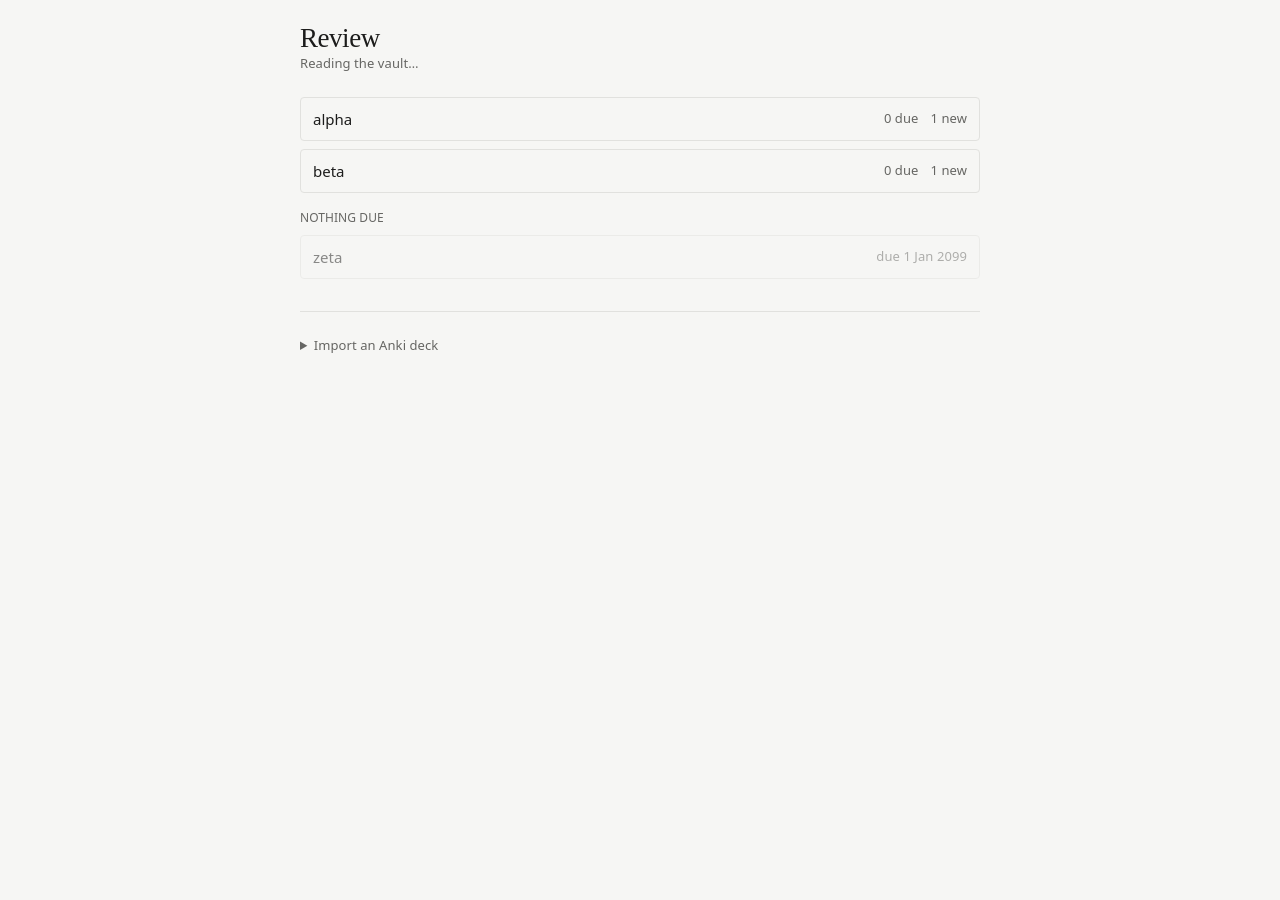
a sitting whose deck note read failed for good can try again (#1163) › #1163 B1 after Try again by key in the review pane the pane's Enter shows the answer of the card that comes up
Expected: the button "alpha 0 due 1 new" is shown, x1=300 y1=97 x2=980 y2=141
Press j in the element labelled "Review"
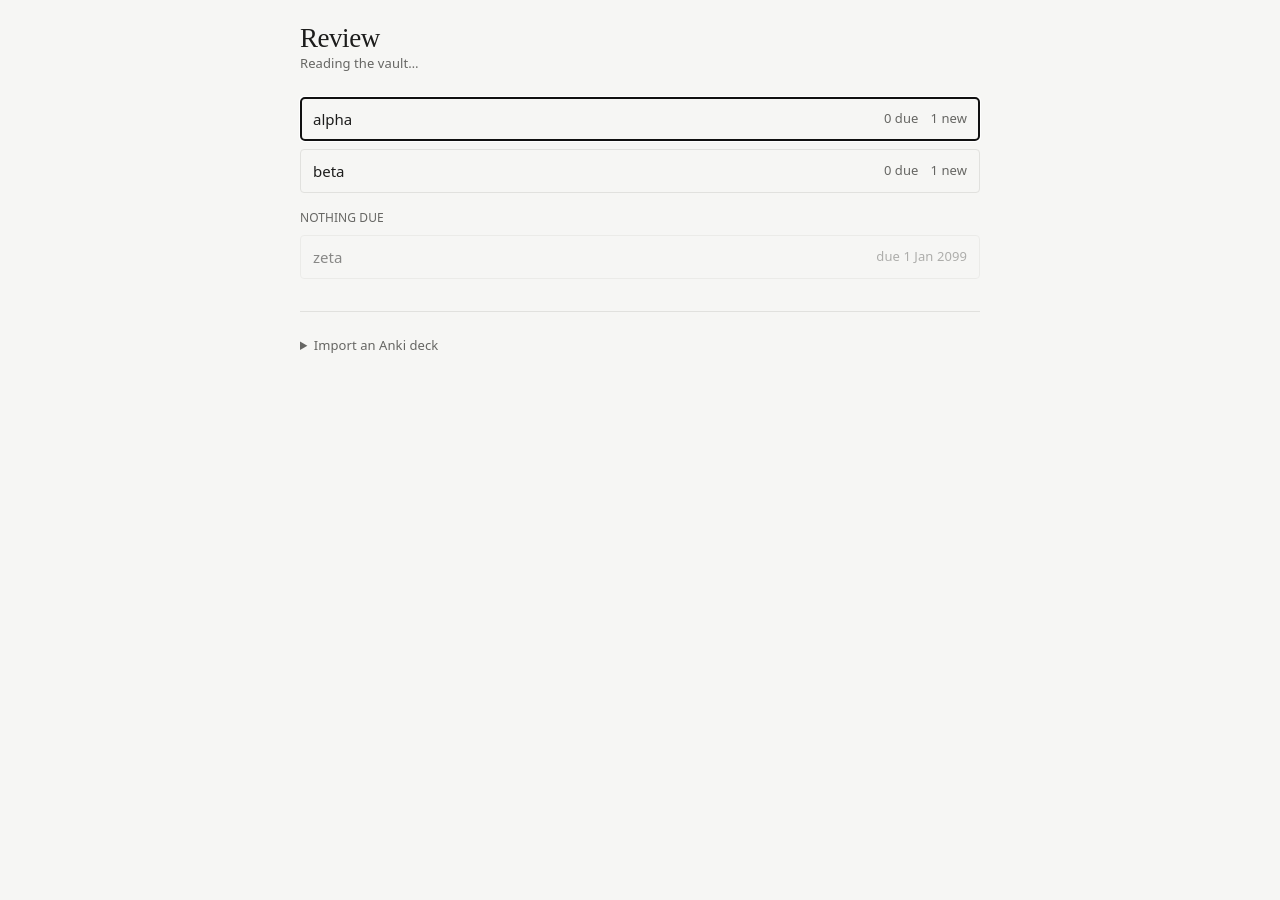
Press j in the element labelled "Review"
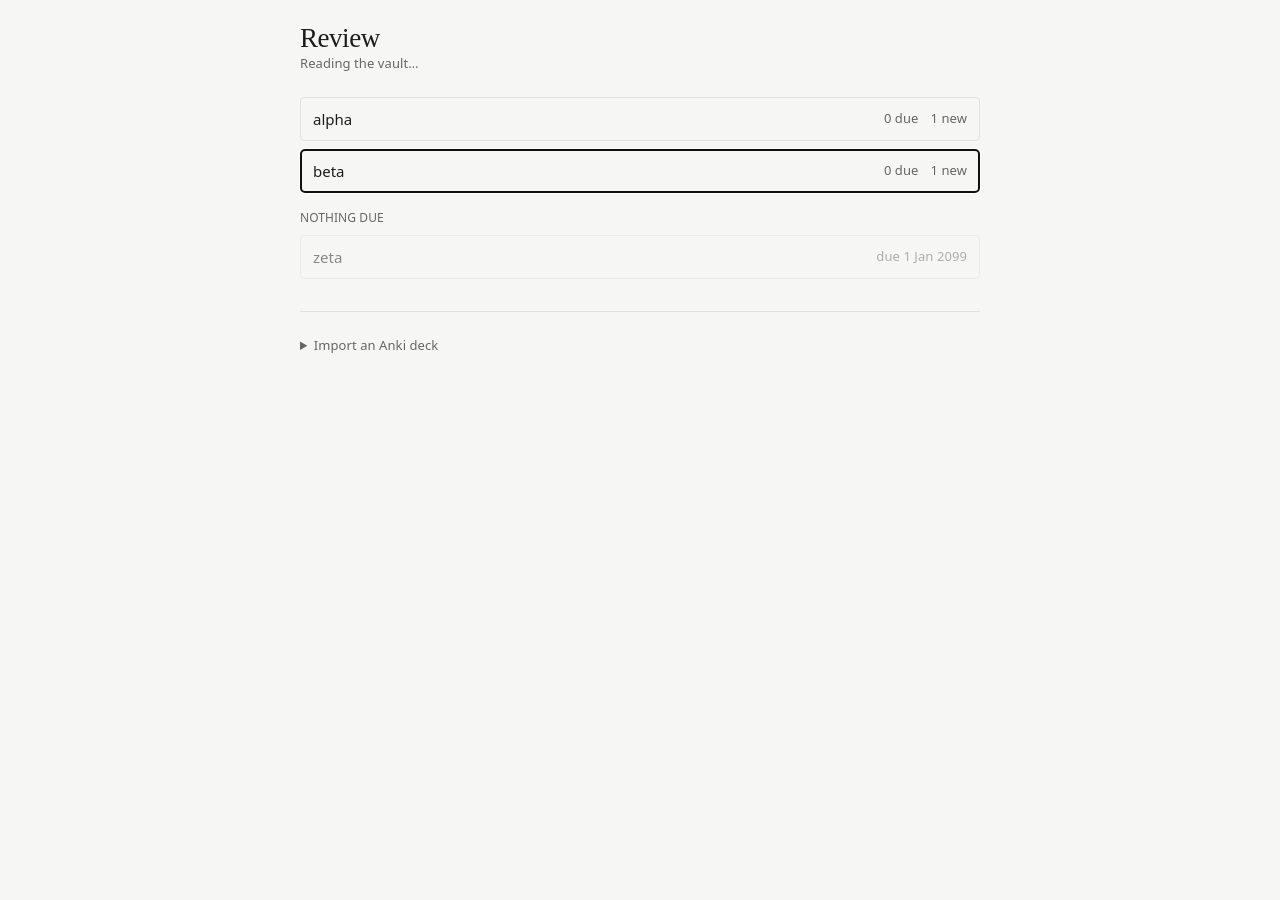
Press l in the element labelled "Review"
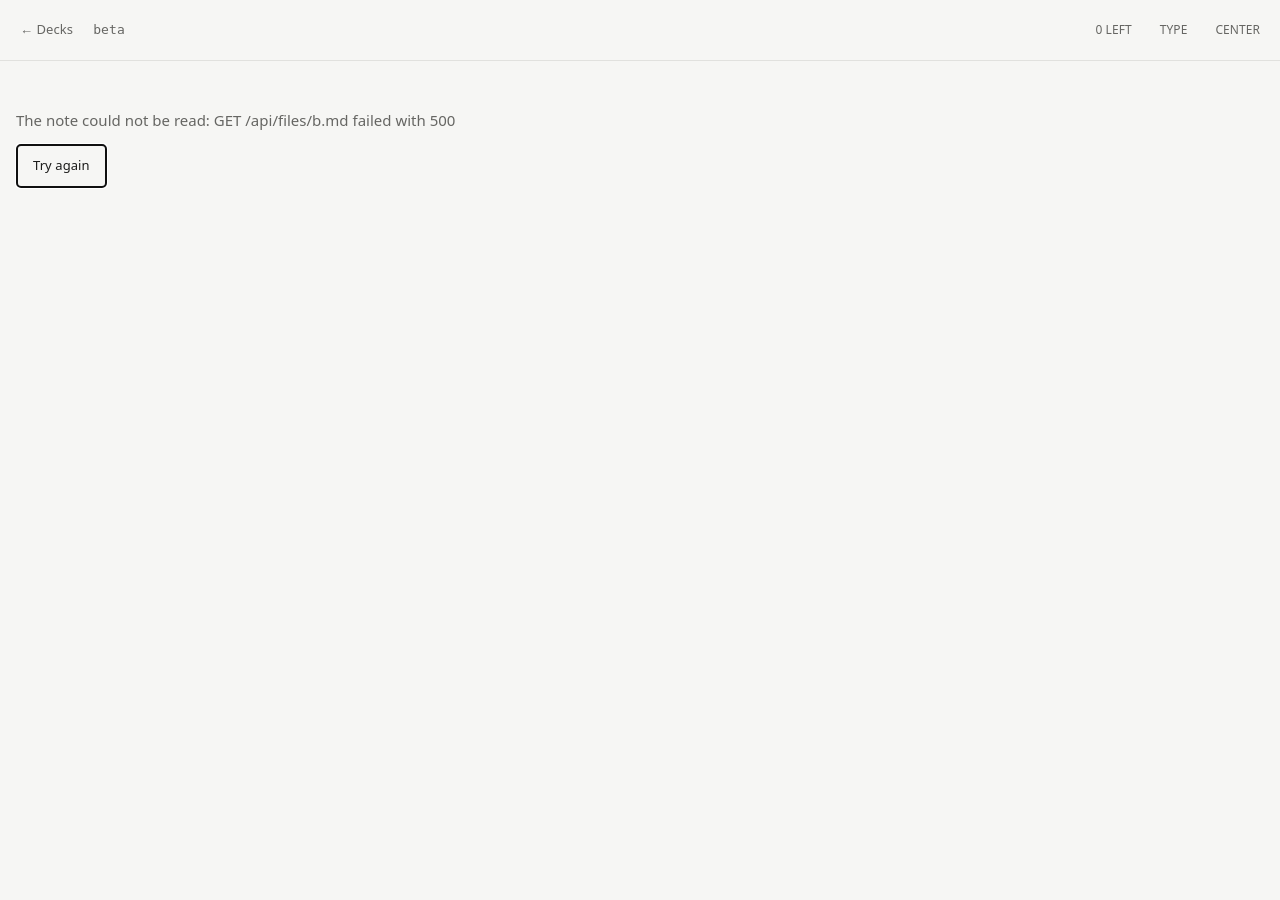
Press Enter in the button "Try again", box x1=16 y1=144 x2=107 y2=188
Click the button "Try again" at (61, 166), box x1=16 y1=144 x2=107 y2=188
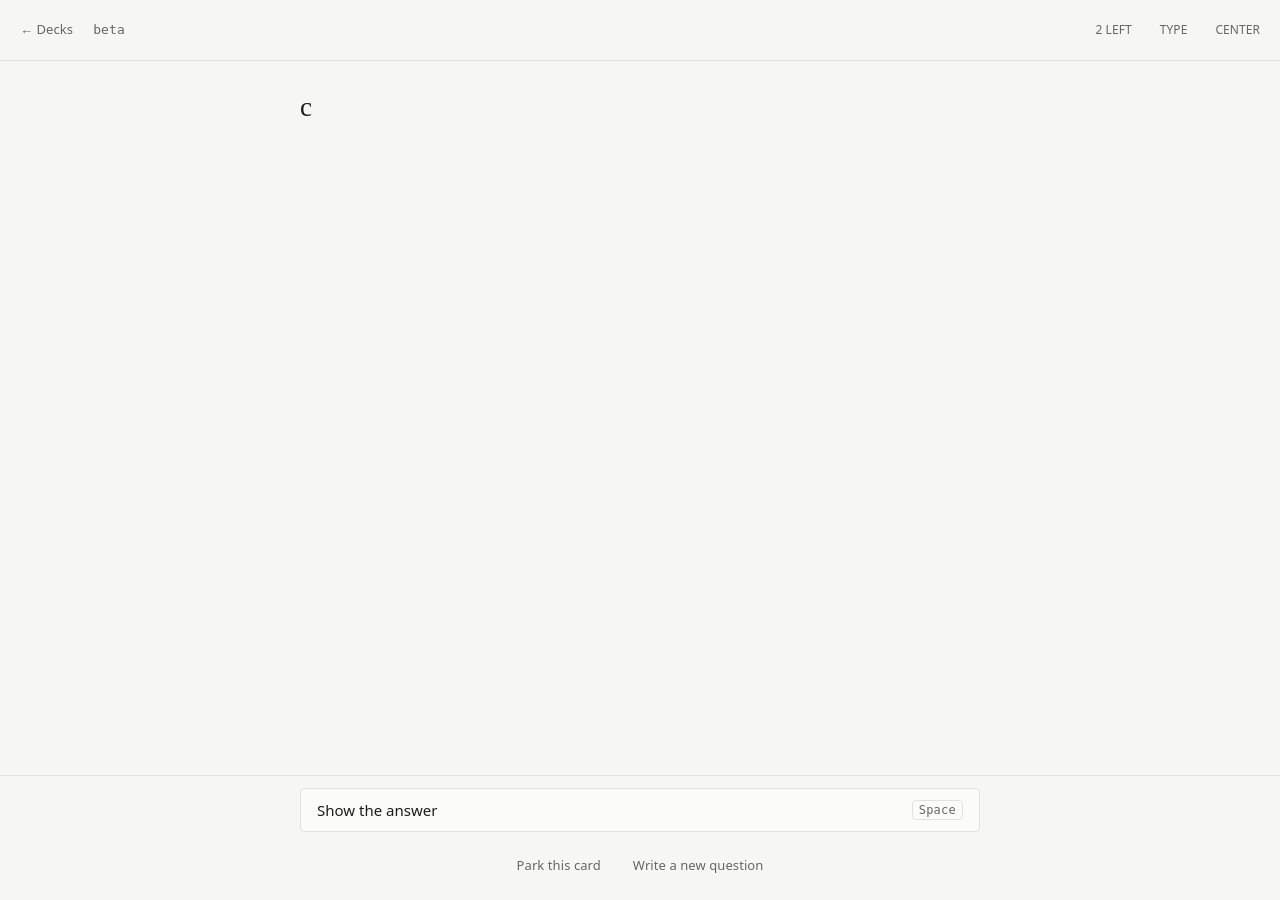
Result: the element with test id "review-card" reads "c" at x1=300 y1=92 x2=312 y2=122
Press Enter in the element named "review"
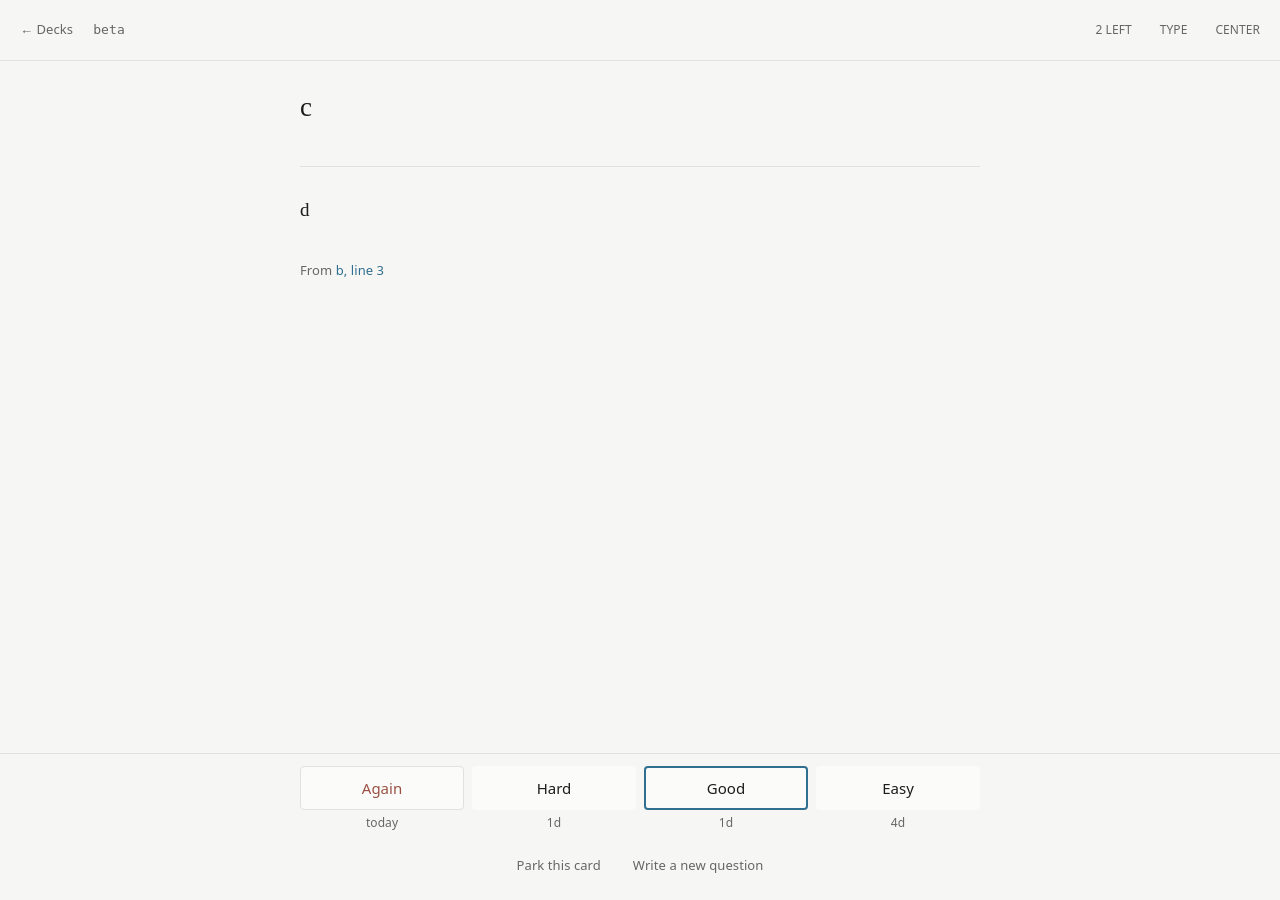
Result: the element with test id "review-back" reads "d" at x1=300 y1=199 x2=310 y2=220
